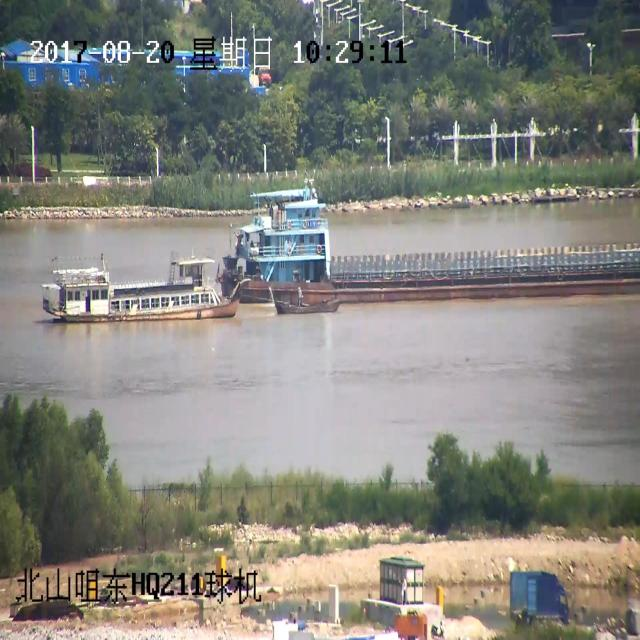cargoship: (232, 171, 640, 332)
houseboat: (42, 249, 238, 333)
